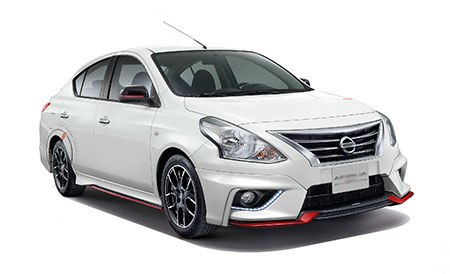sedan: (36, 42, 416, 240)
